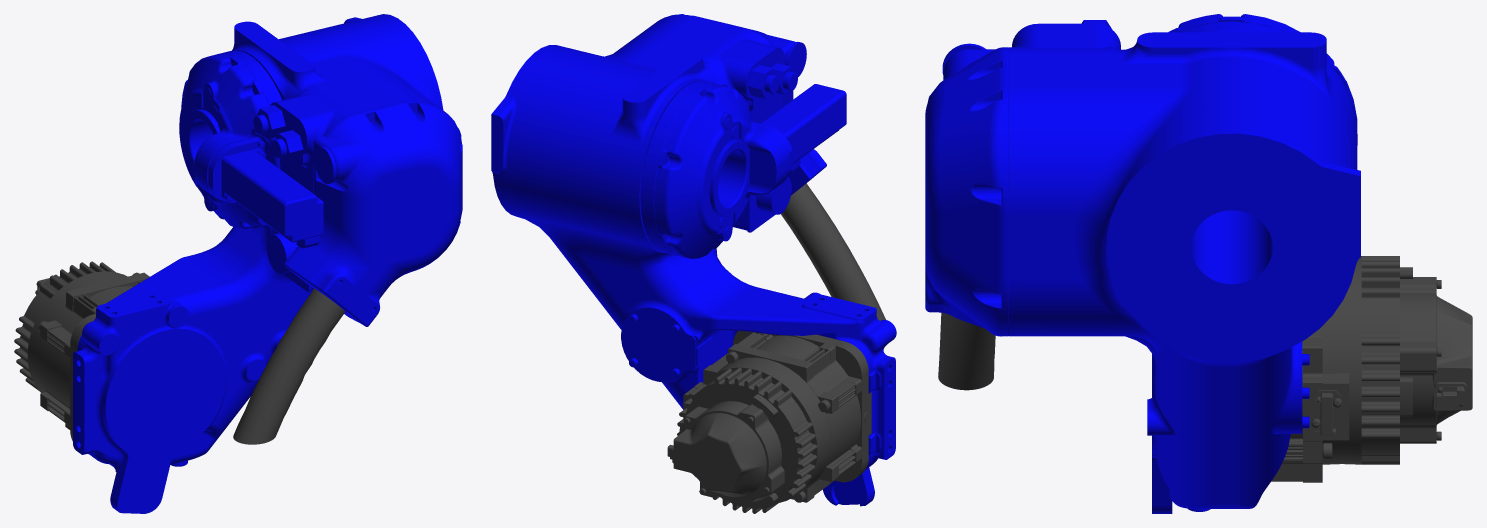
3 renders of one model, left to right at view 1: azimuth 30°, elevation 25°; view 2: azimuth 150°, elevation 25°; view 3: azimuth 270°, elevation 25°, orthographic. The views are drawn at different scales.
Visible parts, largest first — view 1: gp12_link_3_u; view 2: gp12_link_3_u; view 3: gp12_link_3_u.
Part boxes in pixels (x1=…): gp12_link_3_u: x1=14, y1=14, x2=462, y2=513; gp12_link_3_u: x1=491, y1=14, x2=896, y2=513; gp12_link_3_u: x1=925, y1=14, x2=1472, y2=513.
Bounding box in the file's own units: 0.34 × 0.3355 × 0.3915.
